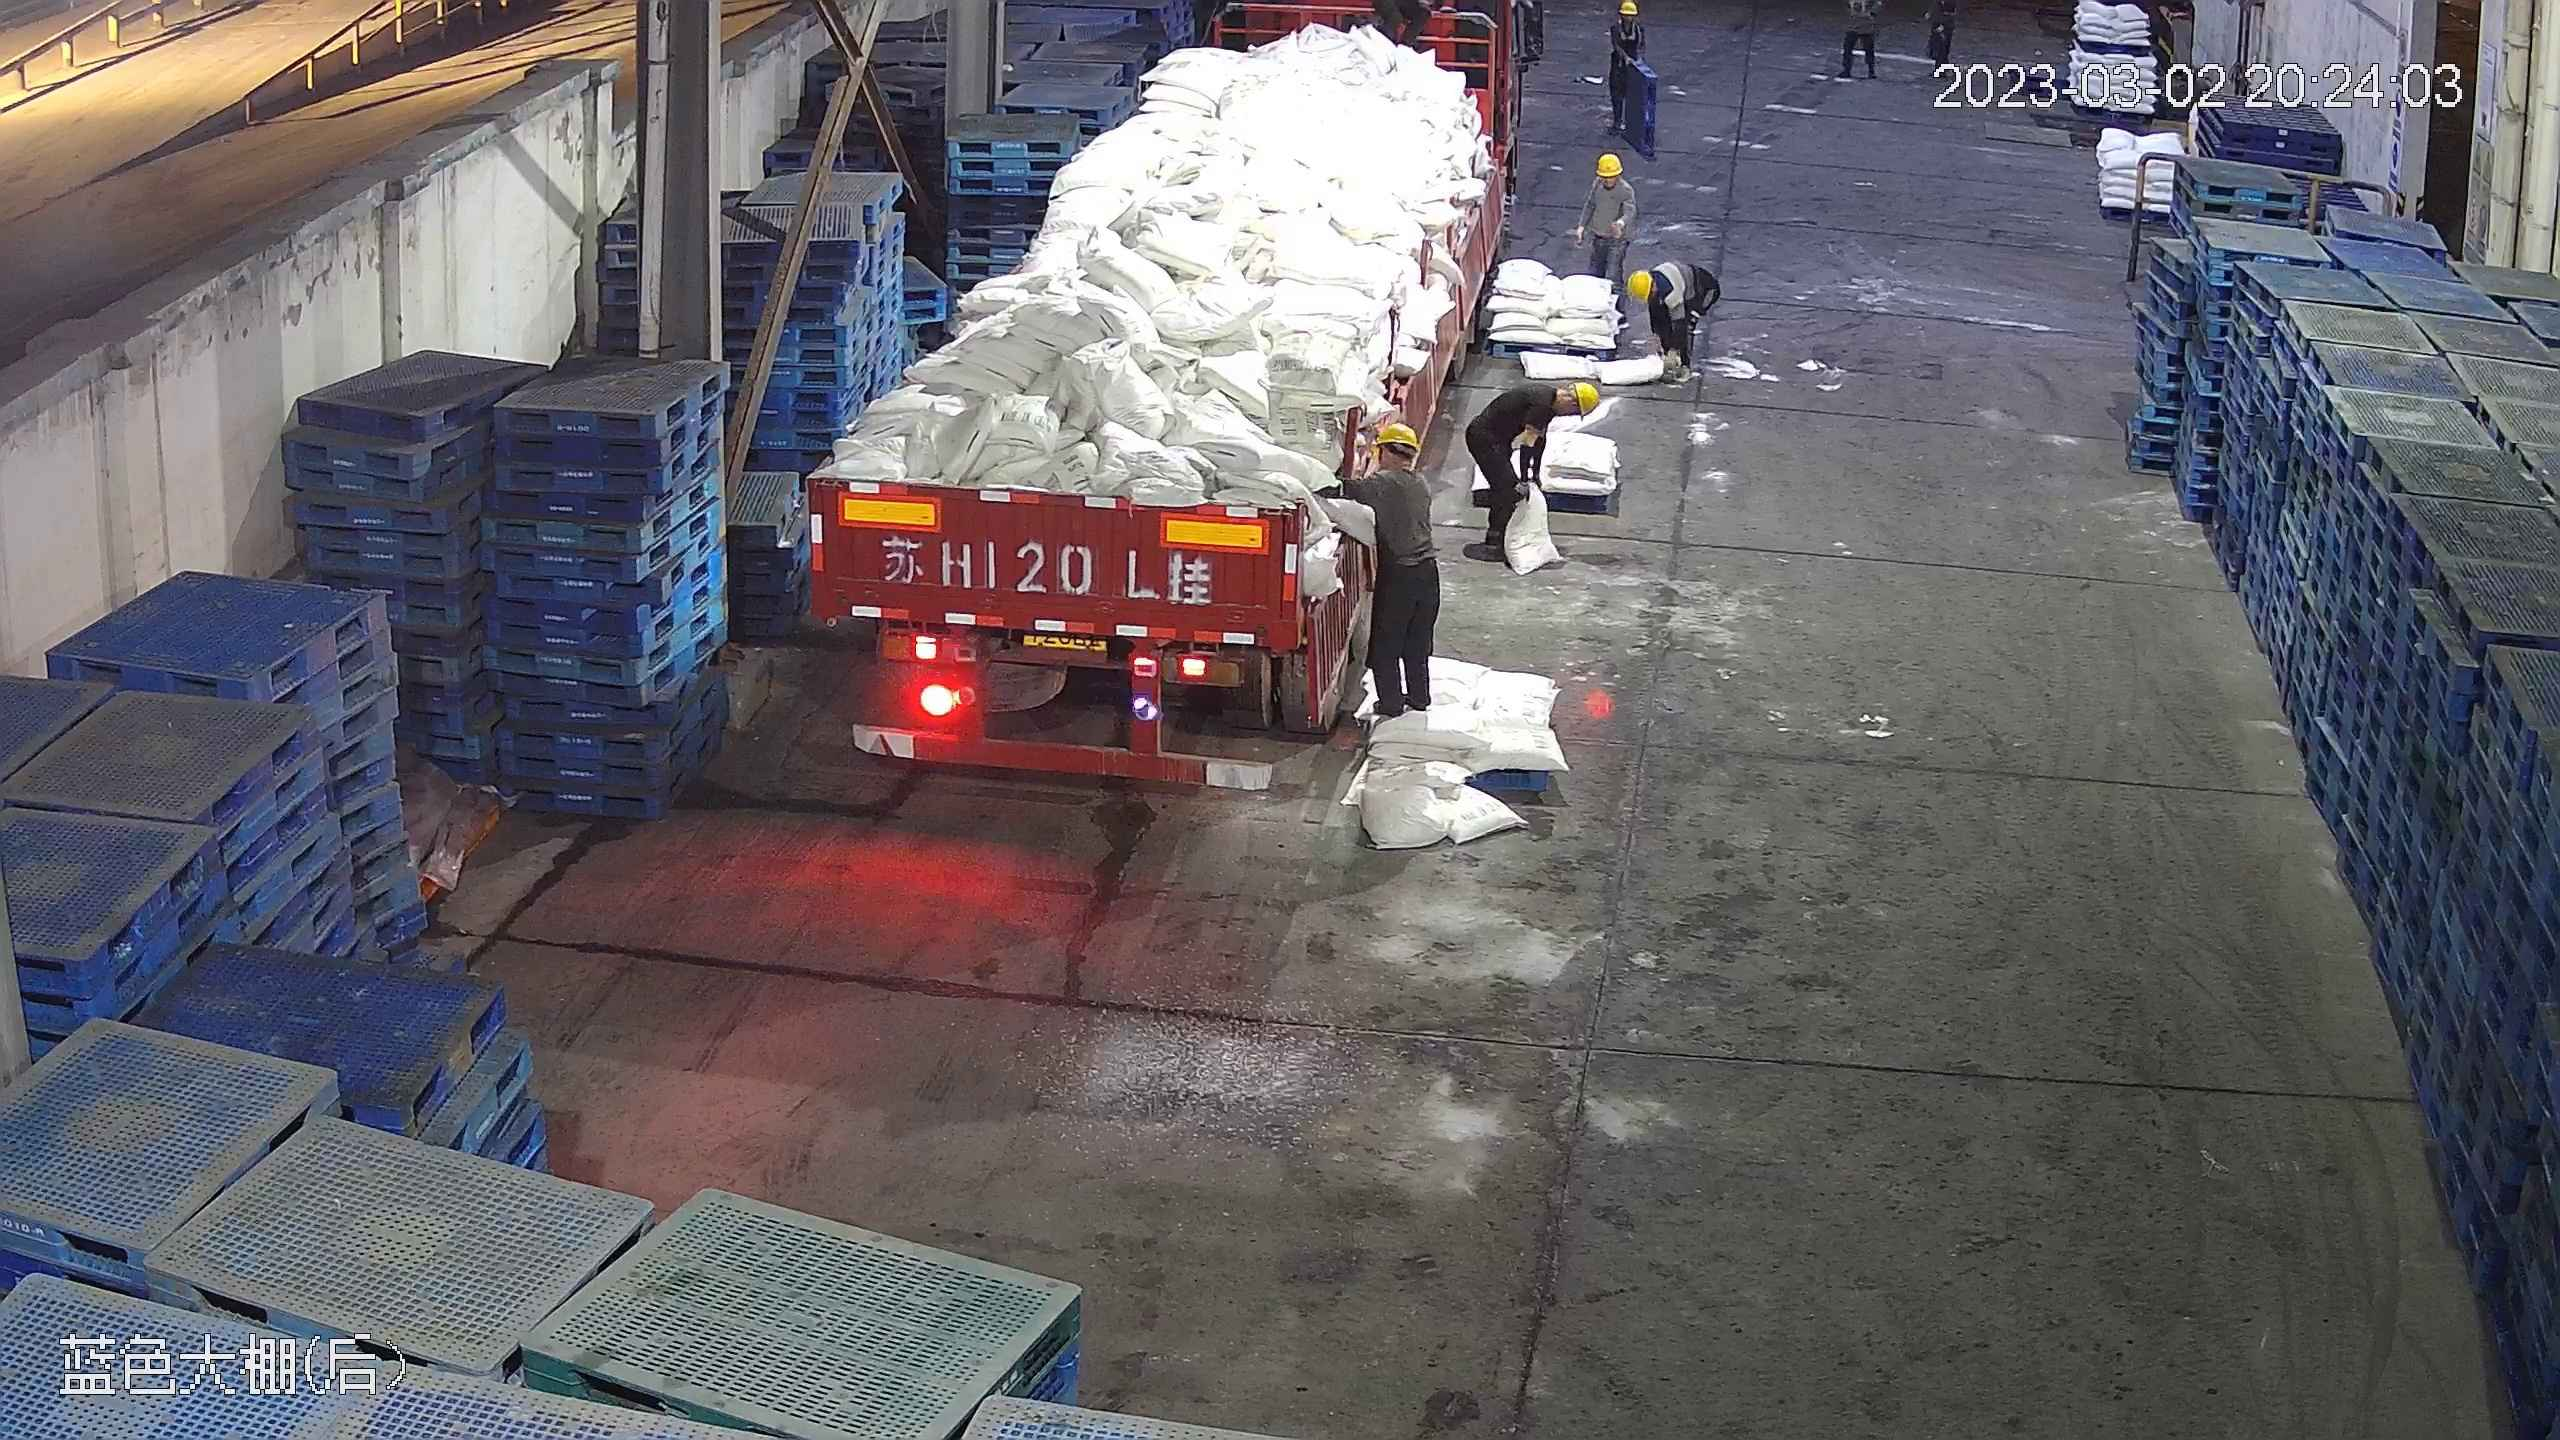head: (1346, 420, 1437, 519), (1519, 378, 1601, 440), (1584, 152, 1634, 203), (1621, 267, 1678, 311), (1606, 1, 1645, 43)
helmet: (1371, 420, 1423, 457), (1565, 379, 1599, 412), (1621, 266, 1652, 299), (1593, 151, 1622, 175), (1613, 1, 1639, 17)
people: (1333, 416, 1446, 730), (1458, 379, 1600, 570), (1621, 264, 1706, 374), (1574, 152, 1636, 287), (1603, 1, 1658, 149)
truck: (789, 5, 1529, 790)
